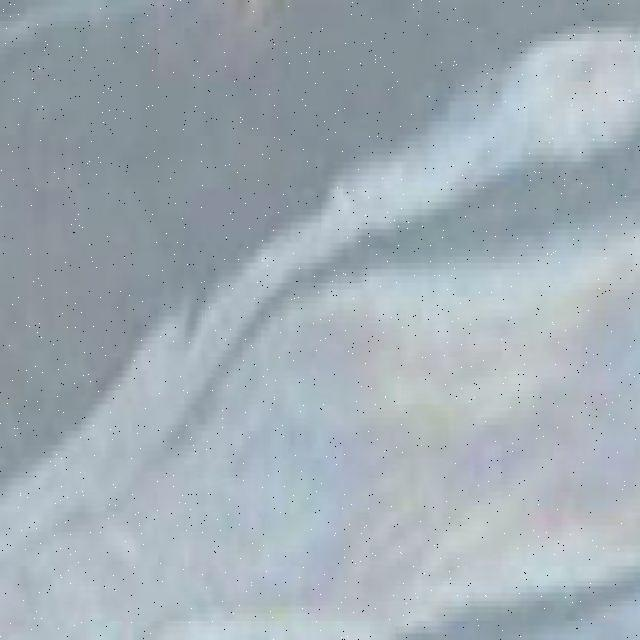oil: (4, 205, 639, 630), (332, 10, 638, 196)
